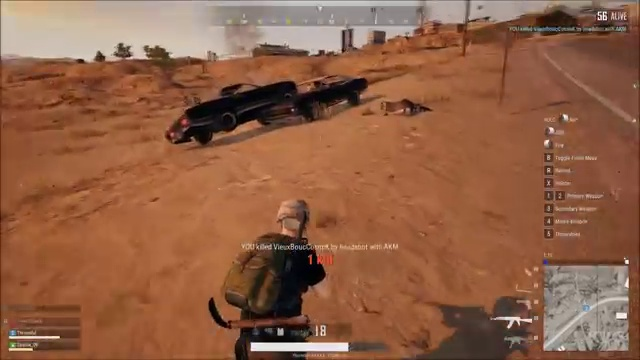Player: (227, 183, 355, 317)
